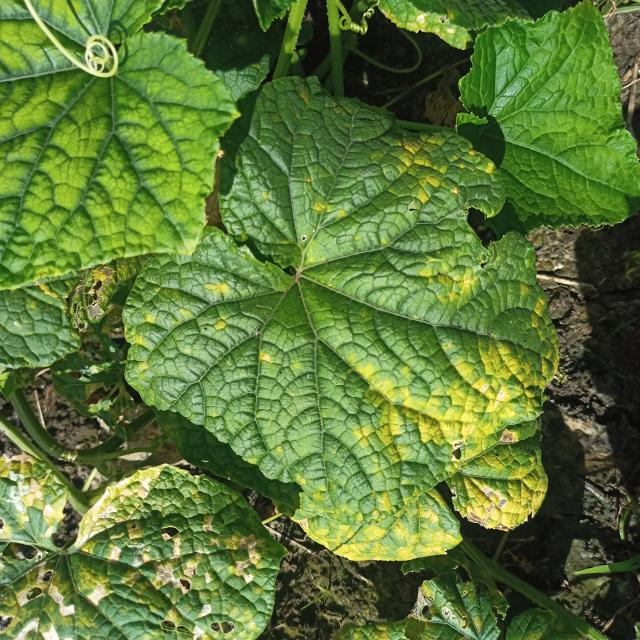disease_cucumber: (308, 323, 558, 561), (388, 124, 491, 301)
